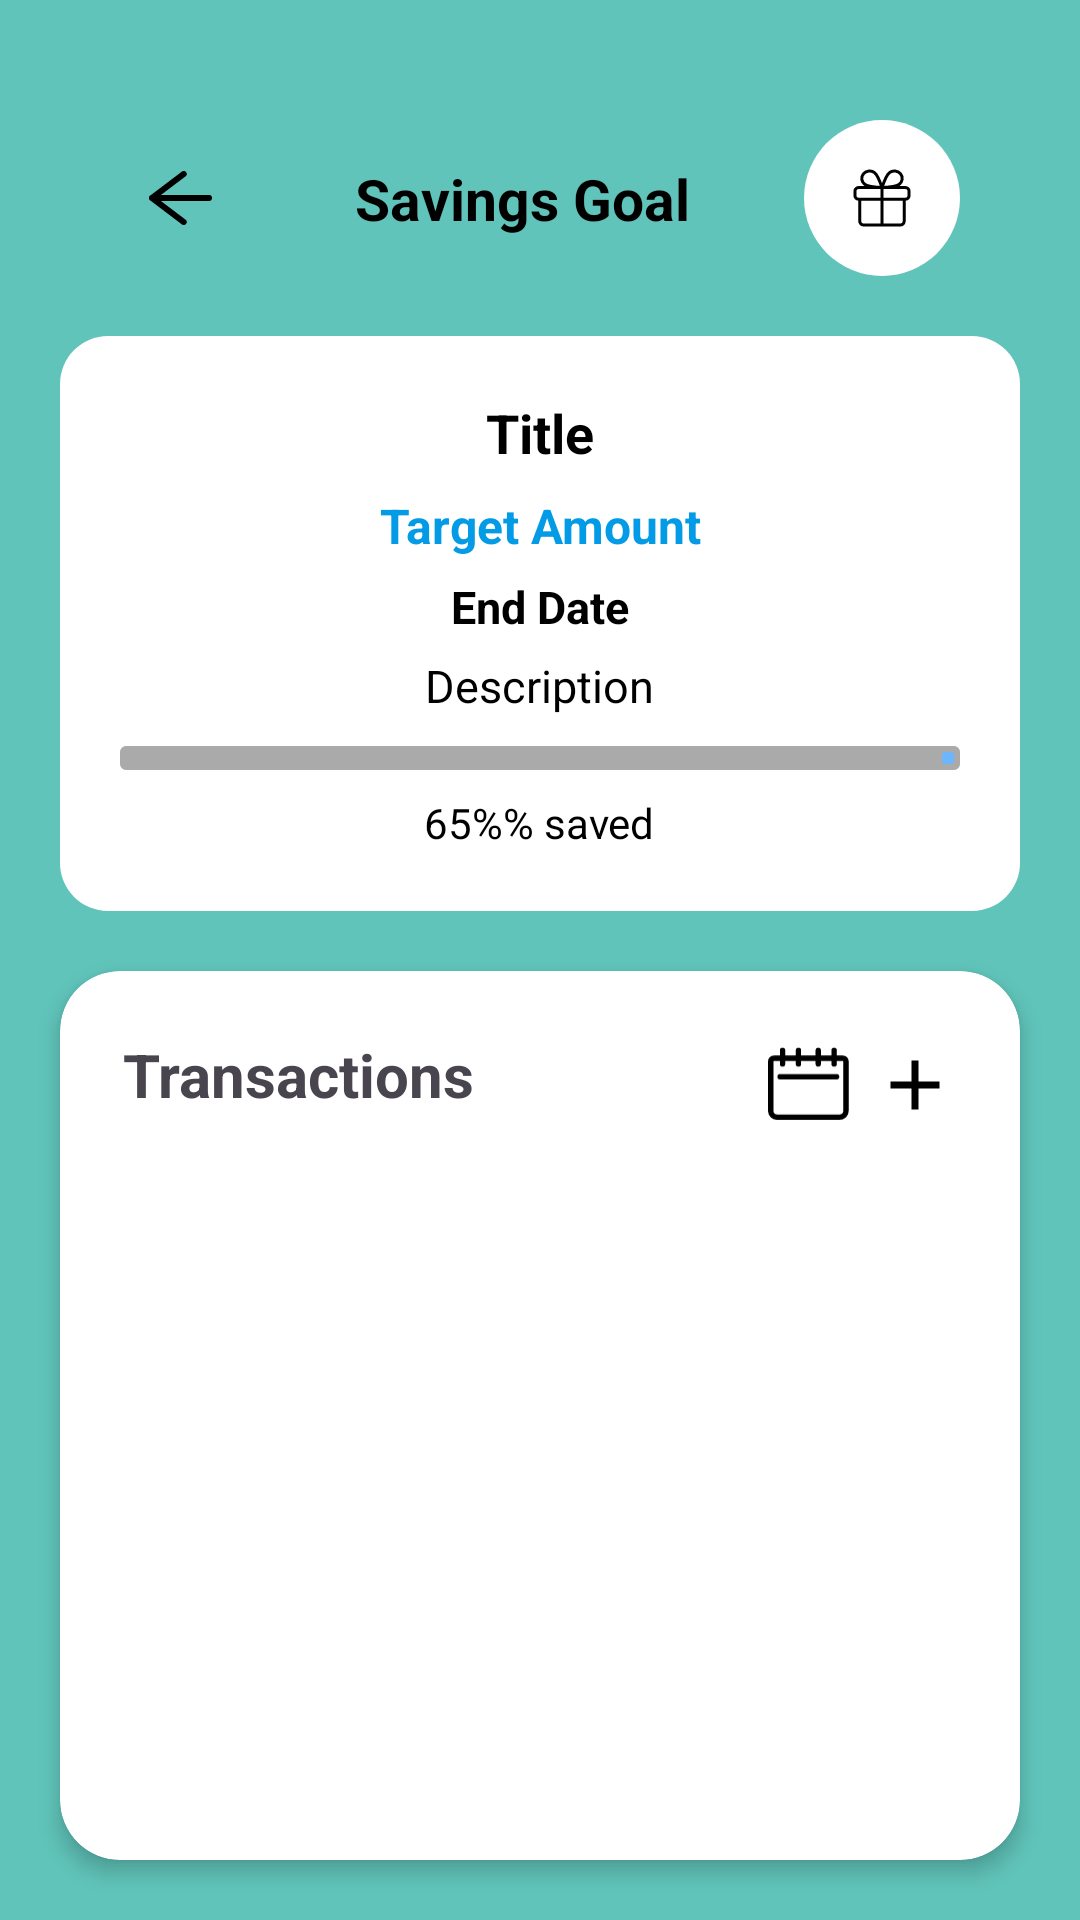

Icon click points for this 1080*1920 phone screenshot, format point (x, y):
Add Saving Button: point (915, 1085)
Back Button: point (180, 198)
Filter by date range button: point (808, 1083)
Rewards Button: point (882, 198)
